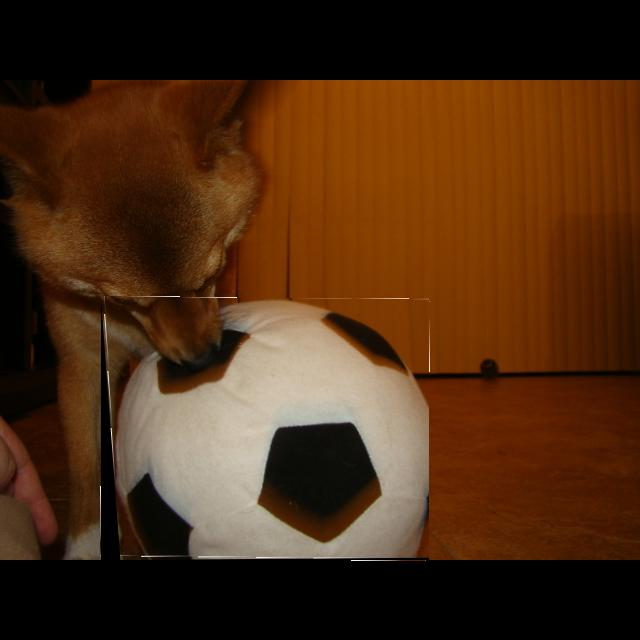Football: (101, 298, 429, 560)
